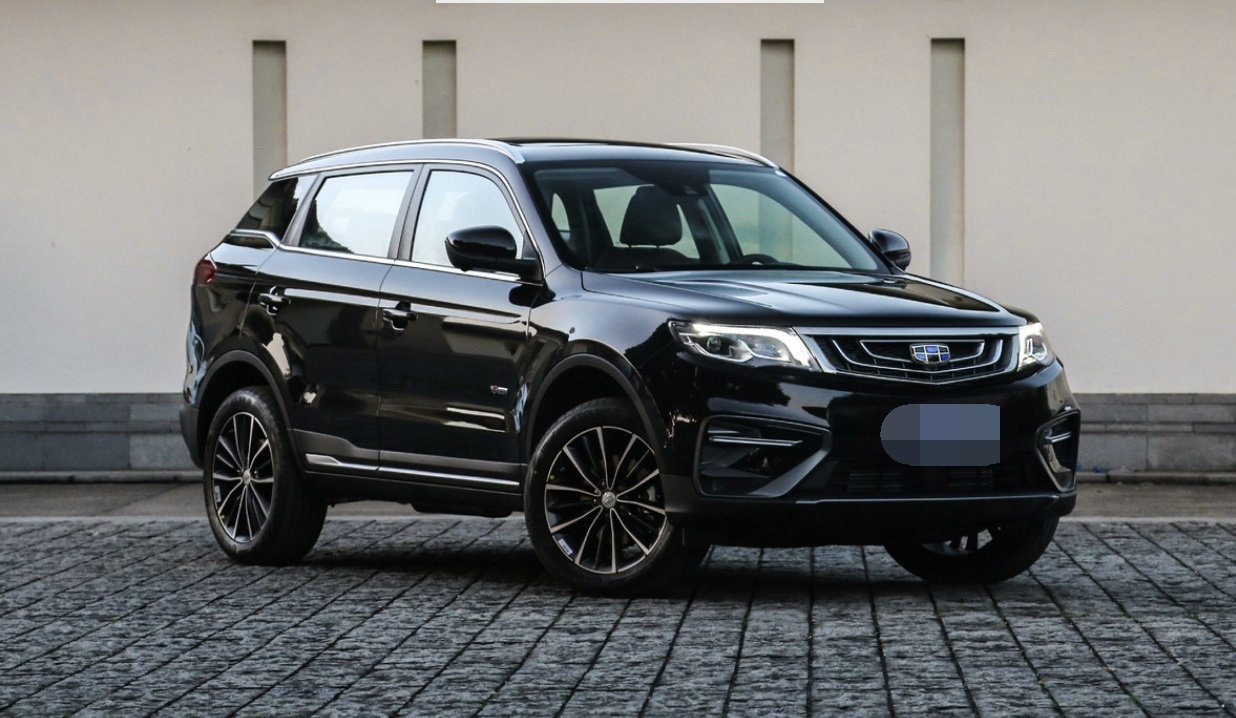SUV: (163, 116, 1051, 600)
